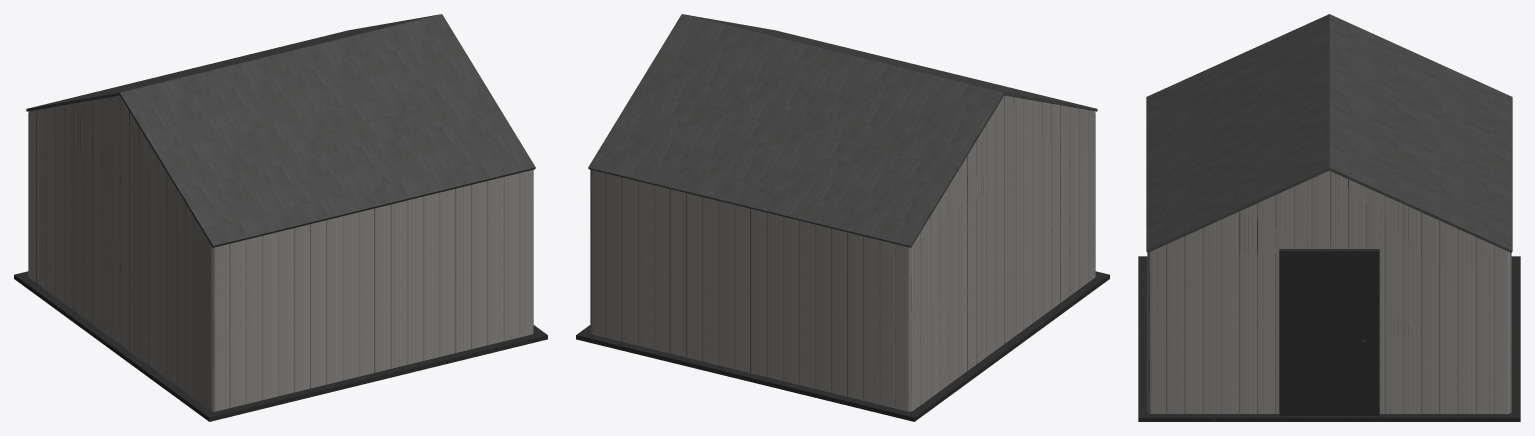
File: Shed.fbx
3 renders of one model, left to right at view 1: azimuth 30°, elevation 25°; view 2: azimuth 150°, elevation 25°; view 3: azimuth 270°, elevation 25°, orthographic. The views are drawn at different scales.
Visible parts, largest first — view 1: Shed_LOD0; view 2: Shed_LOD0; view 3: Shed_LOD0.
Part boxes in pixels (x1,y1,x2,y2): Shed_LOD0: [14, 14, 547, 421]; Shed_LOD0: [576, 14, 1109, 421]; Shed_LOD0: [1138, 14, 1520, 421].
Size of what is drawn, in the model's own units: 4.22 by 3.03 by 4.2.
